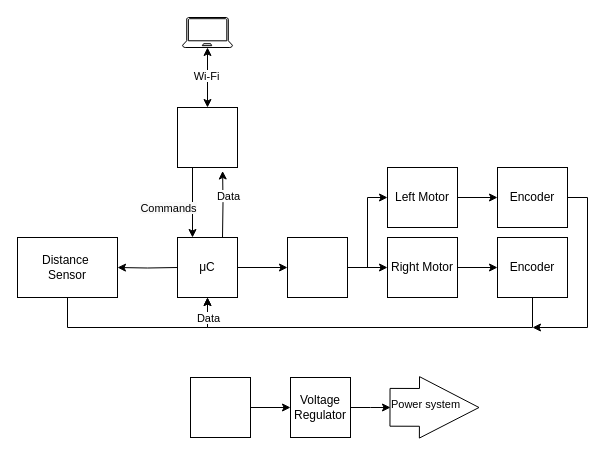
Some shapes in this 613 by 456 pixel diagram are drawn without their labels. The centre of each missing label's shape, as x and y in pixels:
Motor Driver: (317,267)
Power: (220,407)
Wi-Fi module: (207,137)
